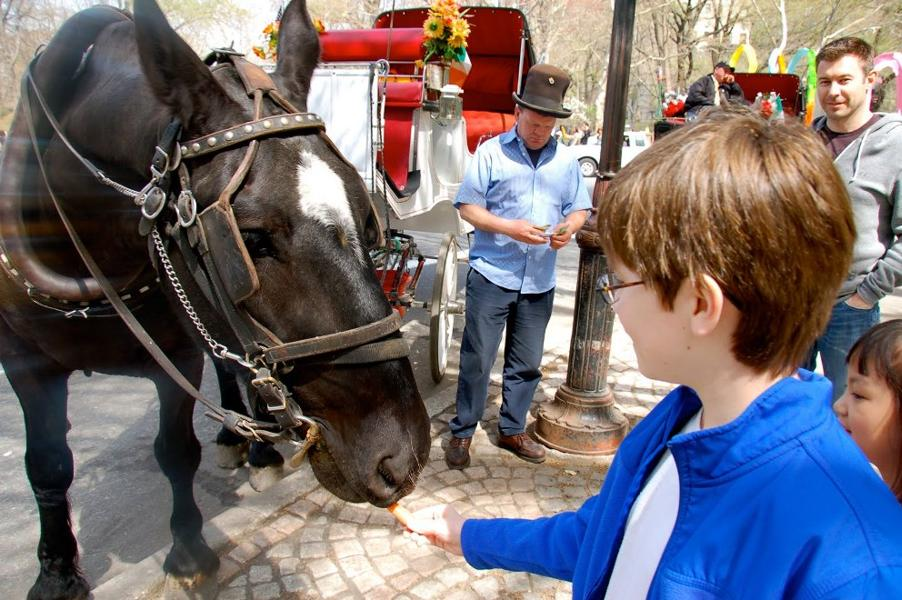person: (403, 108, 902, 600)
